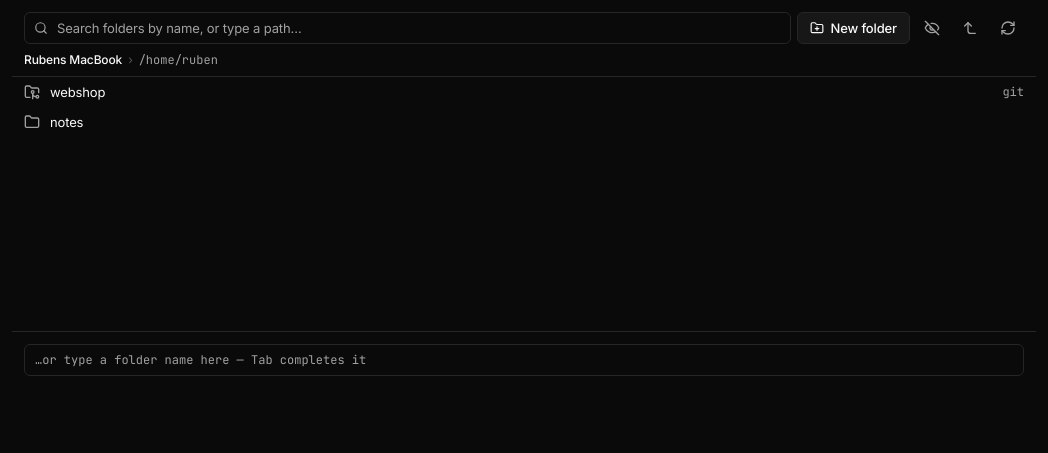
Test case: typing a path › does not choose a typed path that is not a folder
Expected: the text "webshop" is shown, [50,84,105,100]
In the field with test id "folder-path-input": (524, 360) [24,344,1024,376], type "nope"
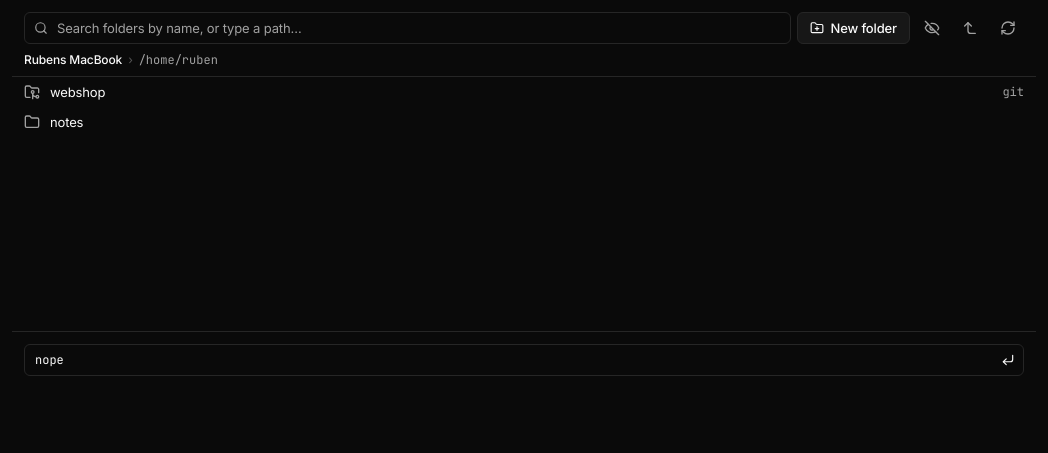
Press Enter in the field with test id "folder-path-input", box [24,344,1024,376]
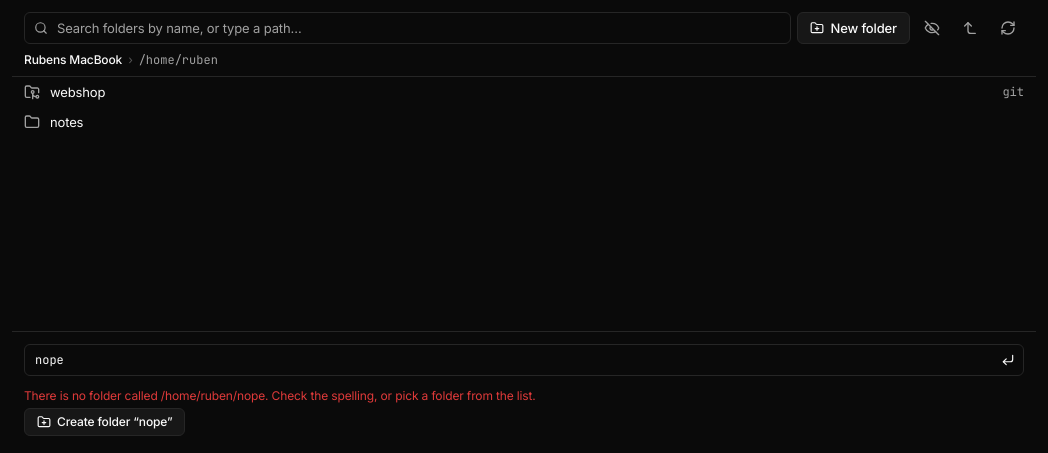
Result: the text "no folder called" is shown at [24,388,536,403]
